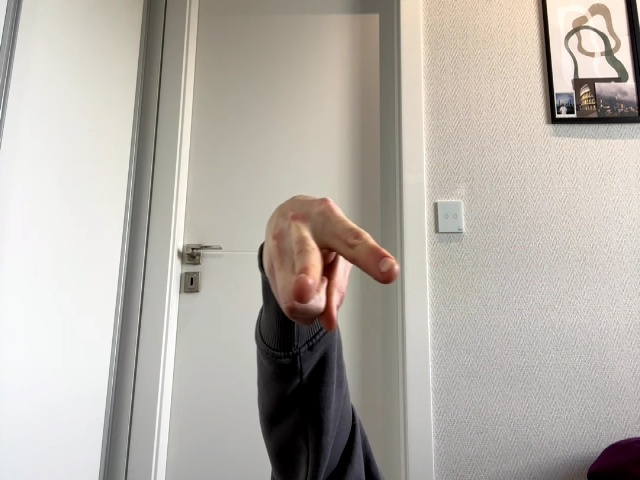U: (265, 195, 400, 333)
